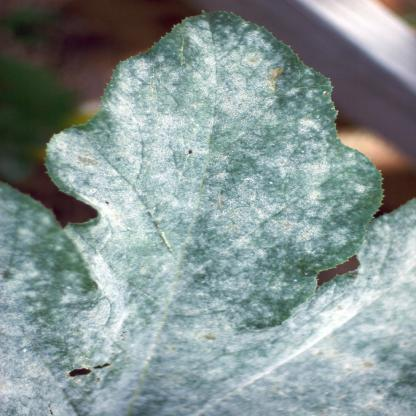squash powdery mildew leaf: (4, 9, 415, 410)
